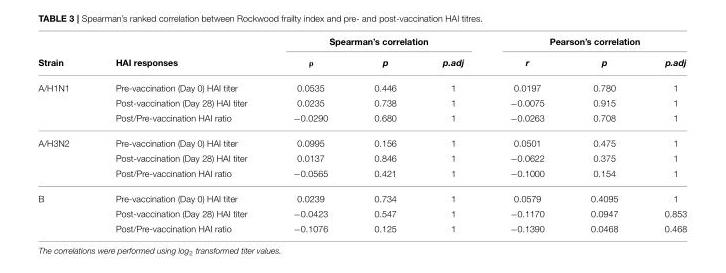table: (37, 36, 686, 233)
table column: (91, 36, 269, 233), (269, 36, 350, 233), (486, 36, 566, 233), (566, 36, 640, 233), (350, 36, 418, 233), (418, 36, 486, 233), (37, 36, 91, 233), (640, 36, 686, 233)
table column header: (37, 36, 686, 75)
table row: (37, 52, 686, 75), (37, 185, 686, 206), (37, 75, 686, 95), (37, 110, 686, 130), (37, 130, 686, 150), (37, 165, 686, 185), (37, 36, 686, 52), (37, 95, 686, 110), (37, 150, 686, 165), (37, 206, 686, 221), (37, 221, 686, 233)
table spanning cell: (91, 36, 269, 75), (269, 36, 486, 52), (486, 36, 686, 52), (37, 75, 91, 130), (37, 130, 91, 185), (37, 185, 91, 233), (37, 36, 91, 75)
